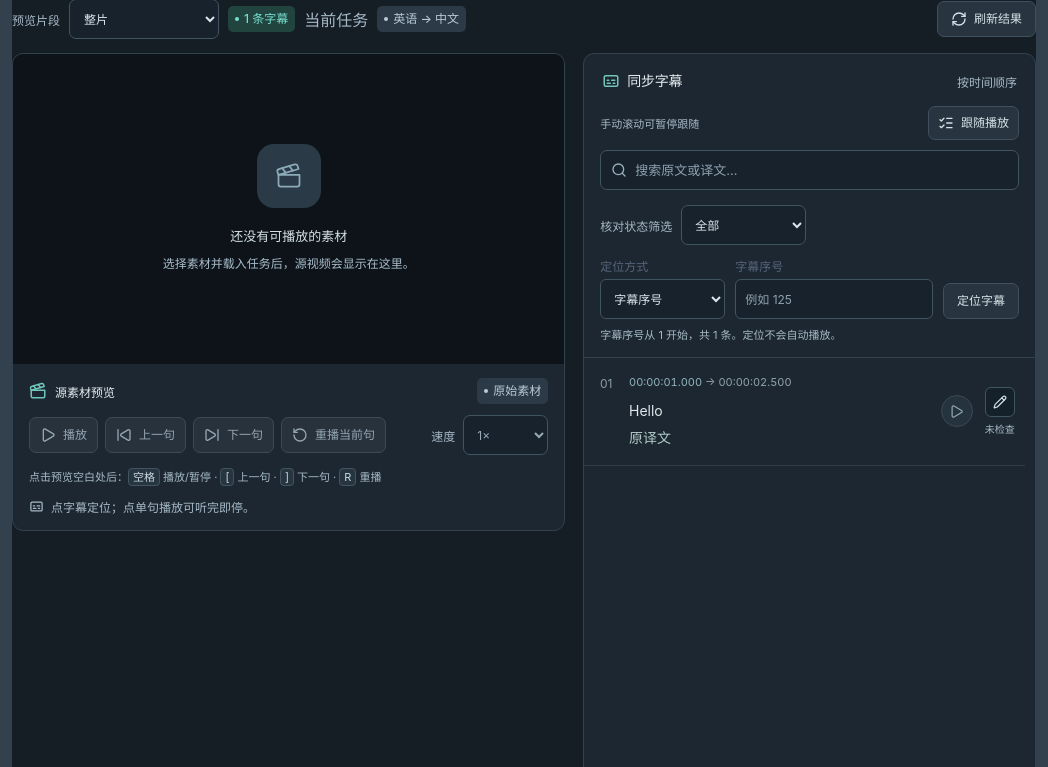
persisted review drafts in the preview › clears the persisted draft only after a confirmed discard
Click the button named "编辑第 1 句".
click(1000, 402)  # box [985,386,1015,416]
(page scrolled)
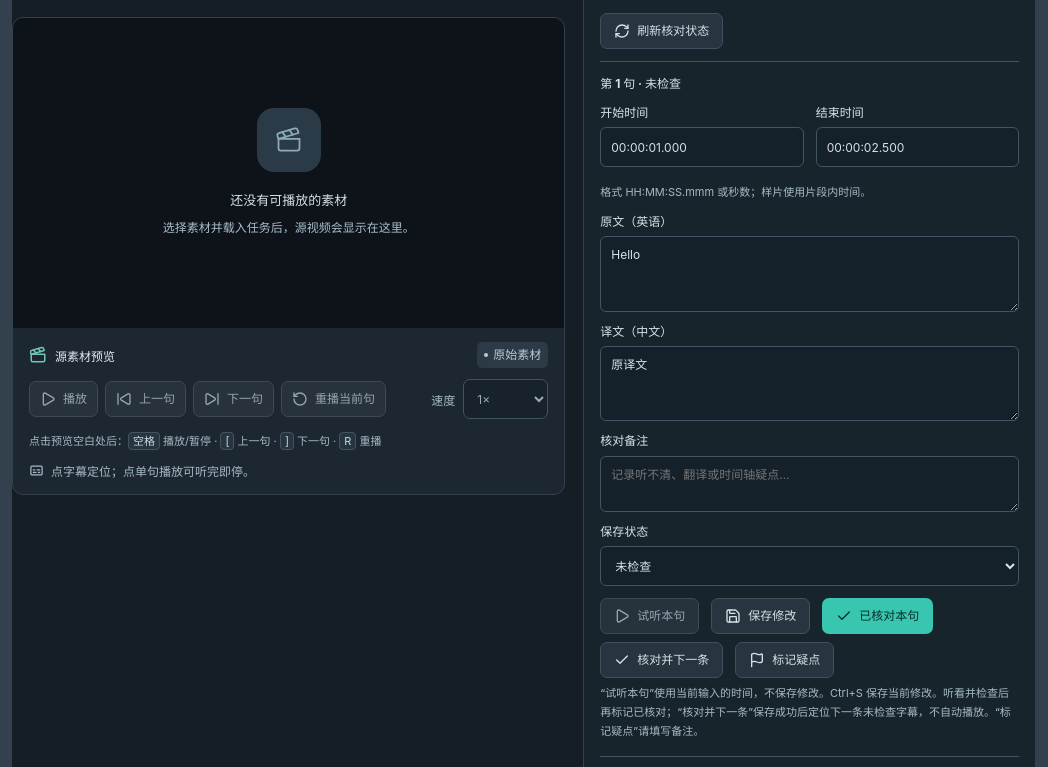
Replace the text in the text box labelled "译文（中文）" with "提交内容" at (810, 384), box [600,346,1019,422]
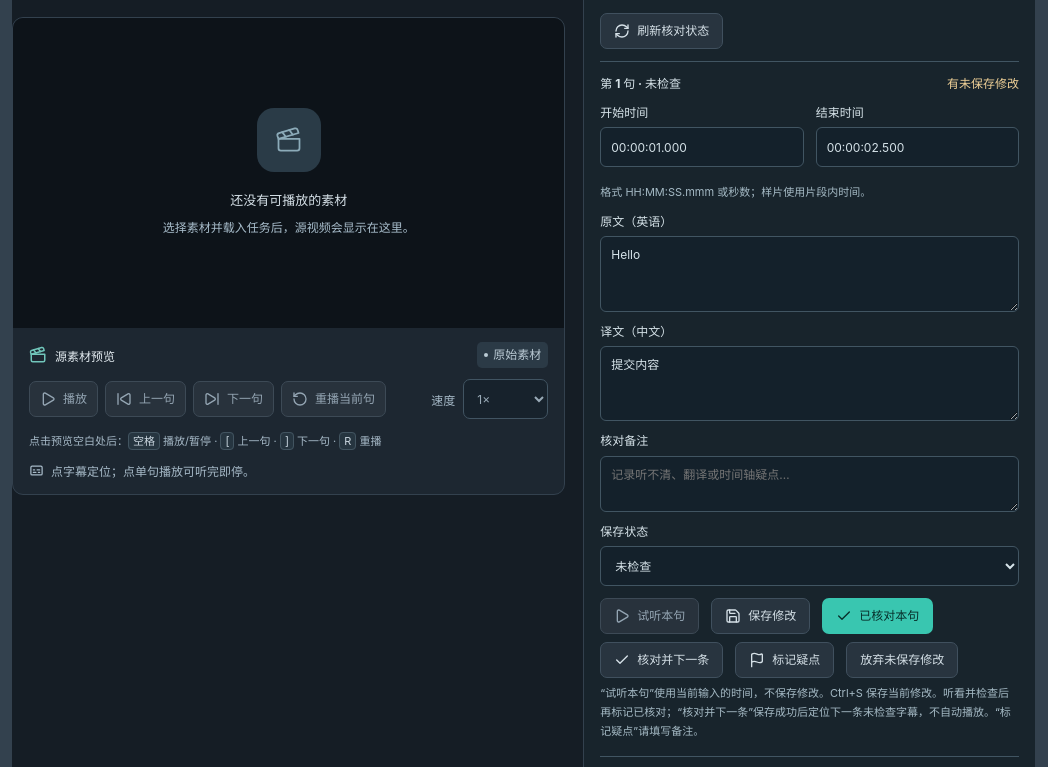
Click the button "放弃未保存修改".
click(902, 660)  # box [846,642,958,678]
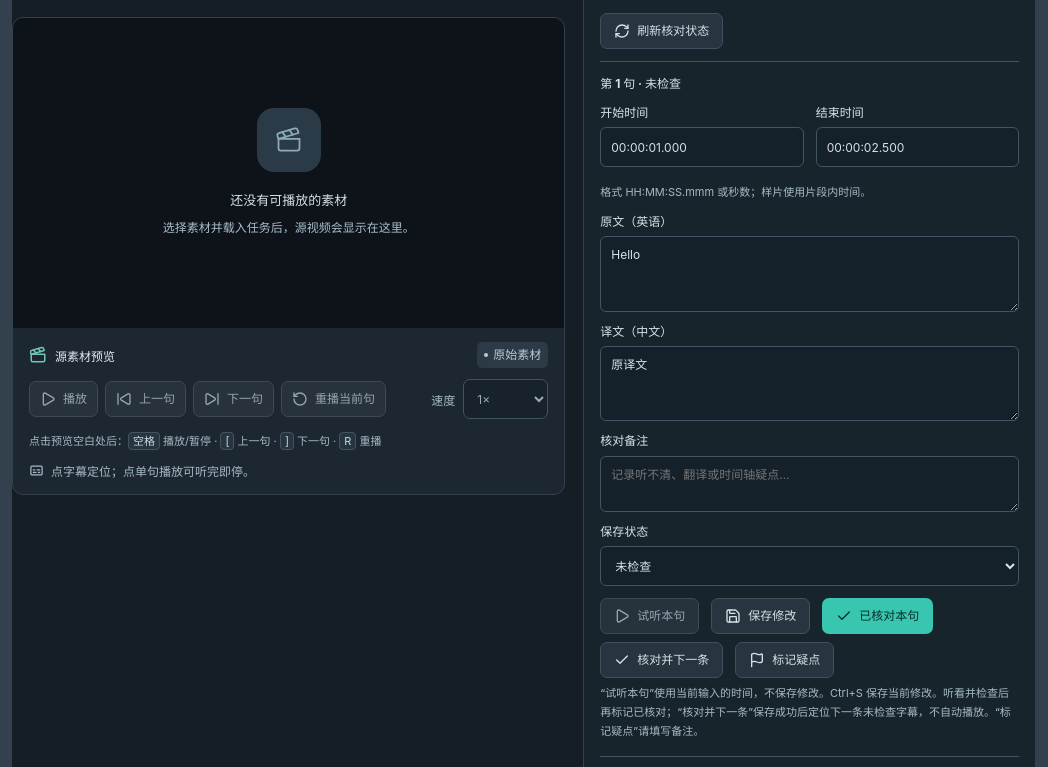
Expected: the text "有未保存修改" is gone
